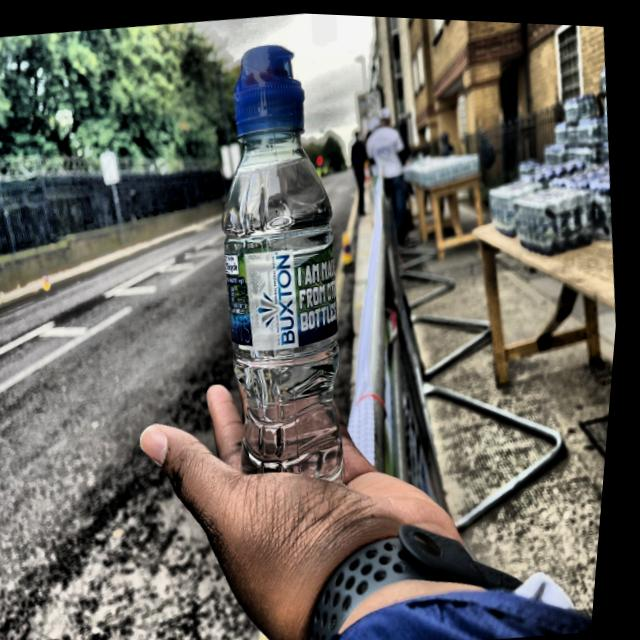Bottles: (156, 15, 407, 519)
